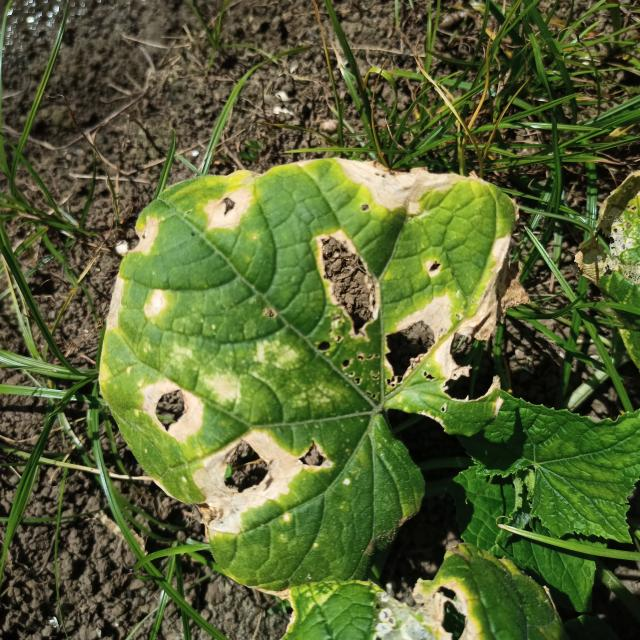disease_cucumber: (97, 163, 510, 536), (369, 576, 499, 640)
